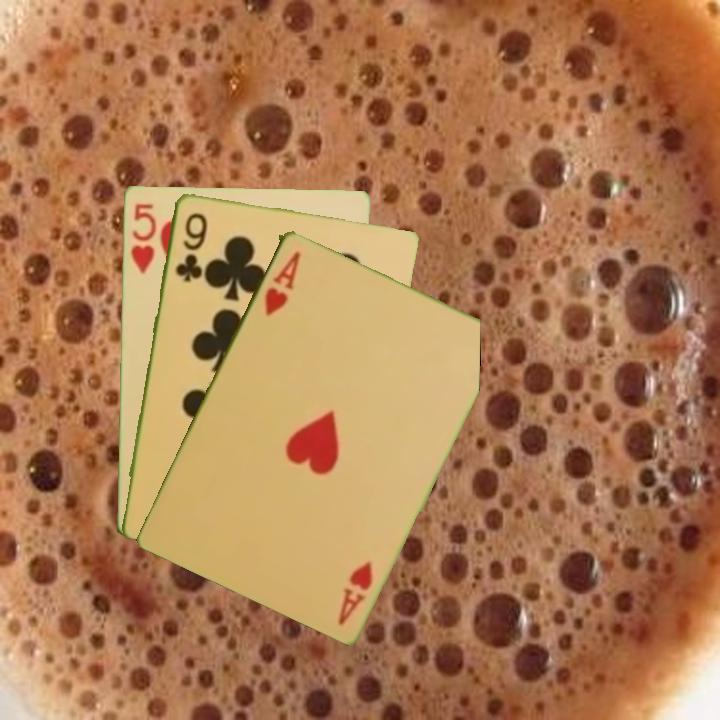5h: (127, 199, 159, 277)
9c: (171, 208, 209, 284)
Ah: (260, 247, 303, 318), (334, 557, 375, 628)
